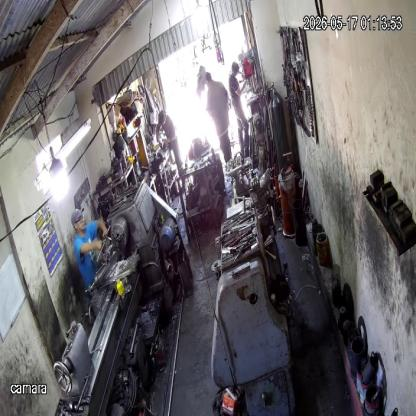lentes: (73, 212, 85, 226)
